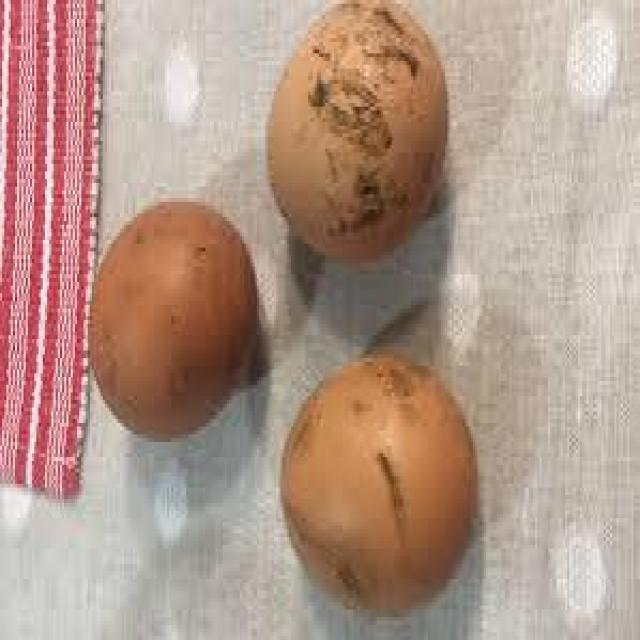Dirt Stained Egg: (279, 348, 496, 615), (264, 0, 464, 275)
